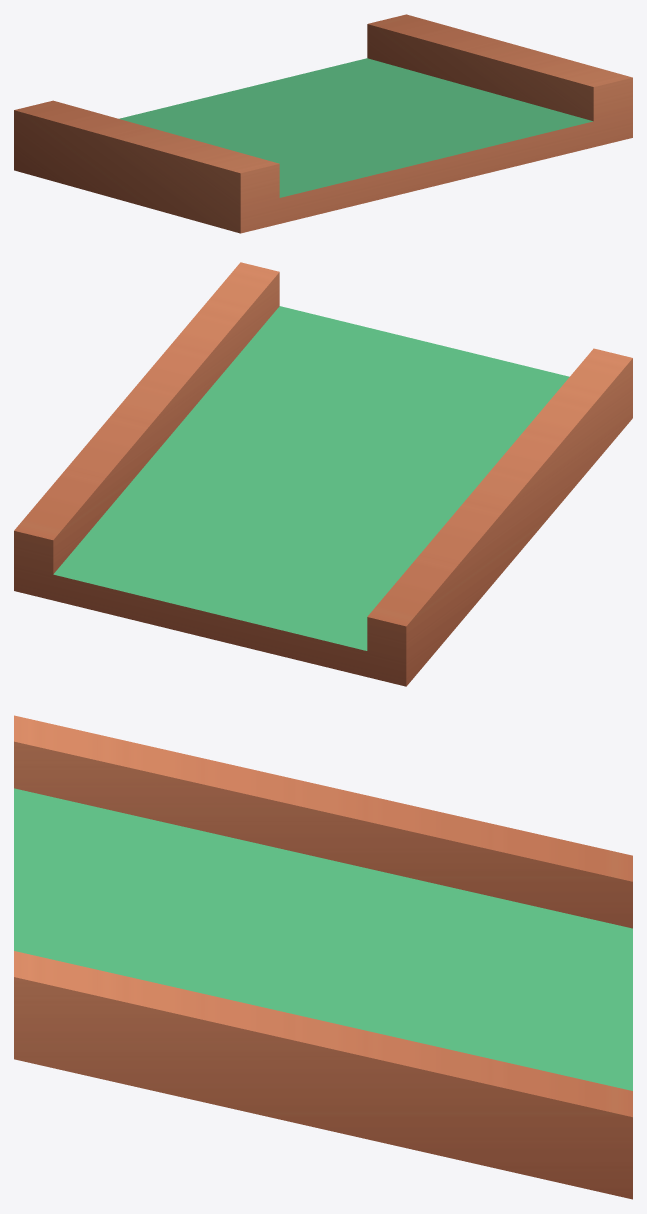
The model's file is ramp-medium.glb.
The picture shows the model from 3 angles, top to bottom: view 1: azimuth 30°, elevation 25°; view 2: azimuth 150°, elevation 25°; view 3: azimuth 270°, elevation 25°; orthographic projection. The views are drawn at different scales.
Visible parts, largest first — view 1: ramp-medium; view 2: ramp-medium; view 3: ramp-medium.
Boxes of the visible parts, left/top/right/bottom form: ramp-medium: left=14, top=14, right=632, bottom=233; ramp-medium: left=14, top=262, right=632, bottom=686; ramp-medium: left=14, top=715, right=632, bottom=1199.
Size of the model in its own units: 0.9999 by 0.3967 by 0.9999.
Materials: 1 (1 with a texture image).
